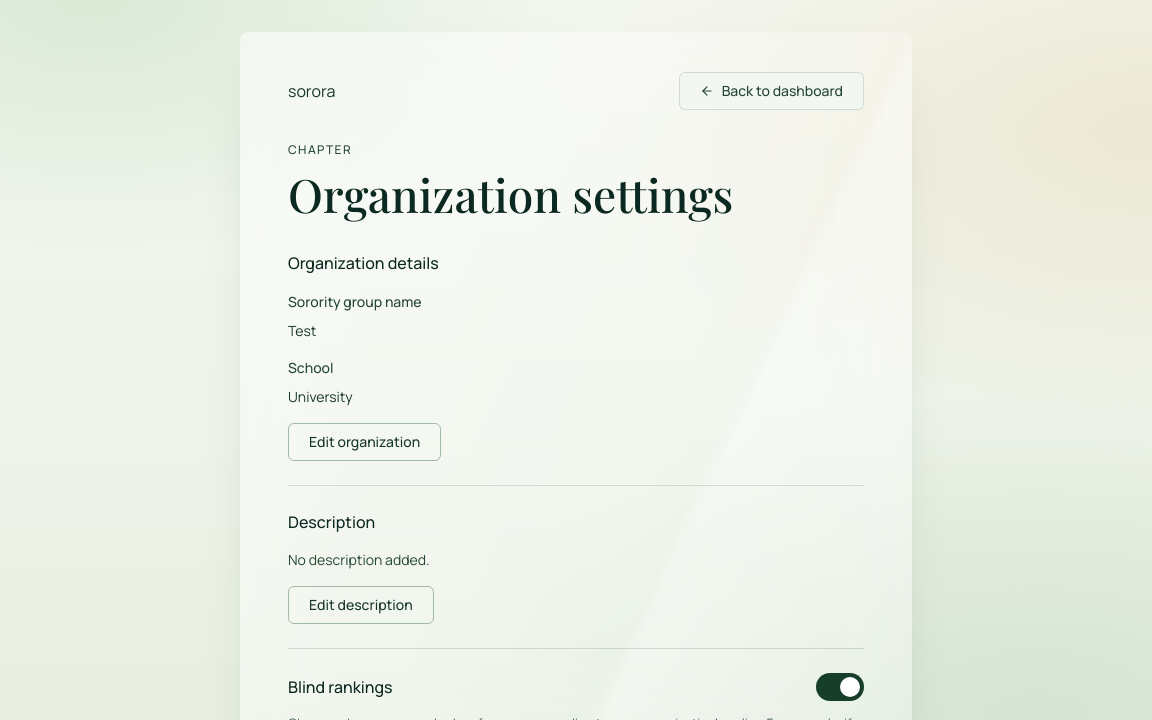
privacy toggle is a draft until Save changes is clicked
Expected: the button "Cancel" is not shown
Click the switch named "Blind rankings".
click(840, 687)  # box [816,673,864,701]
(page scrolled)
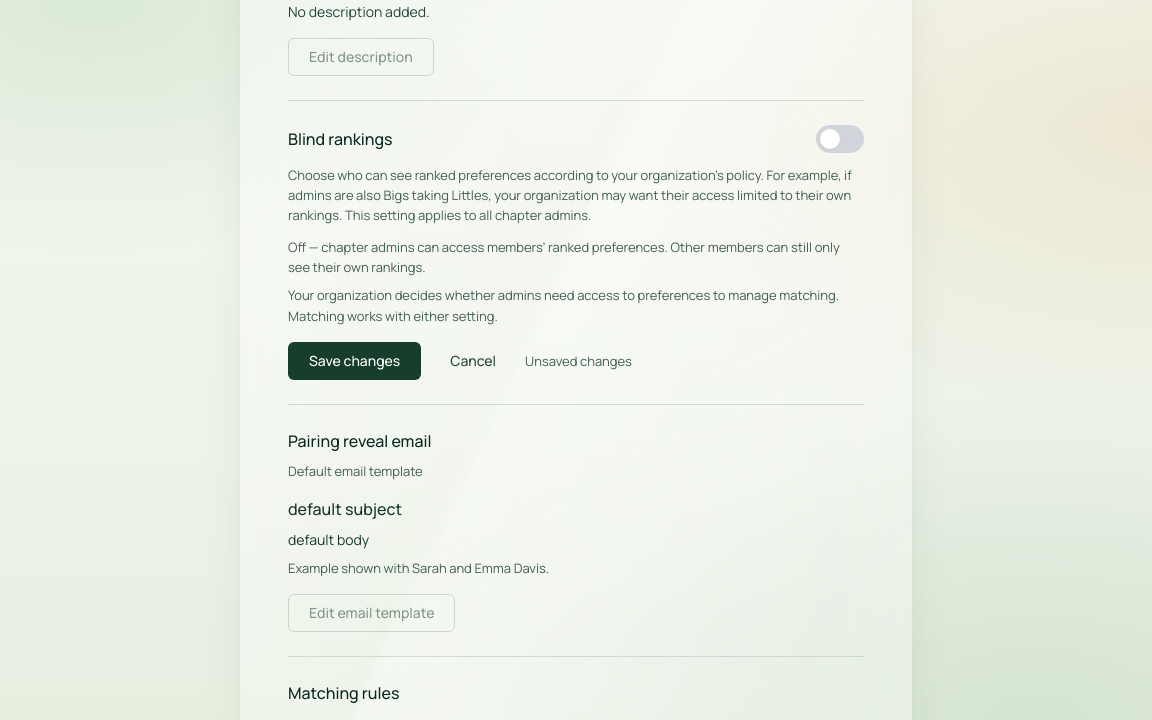
Click the button "Save changes".
click(355, 361)  # box [288,342,421,380]
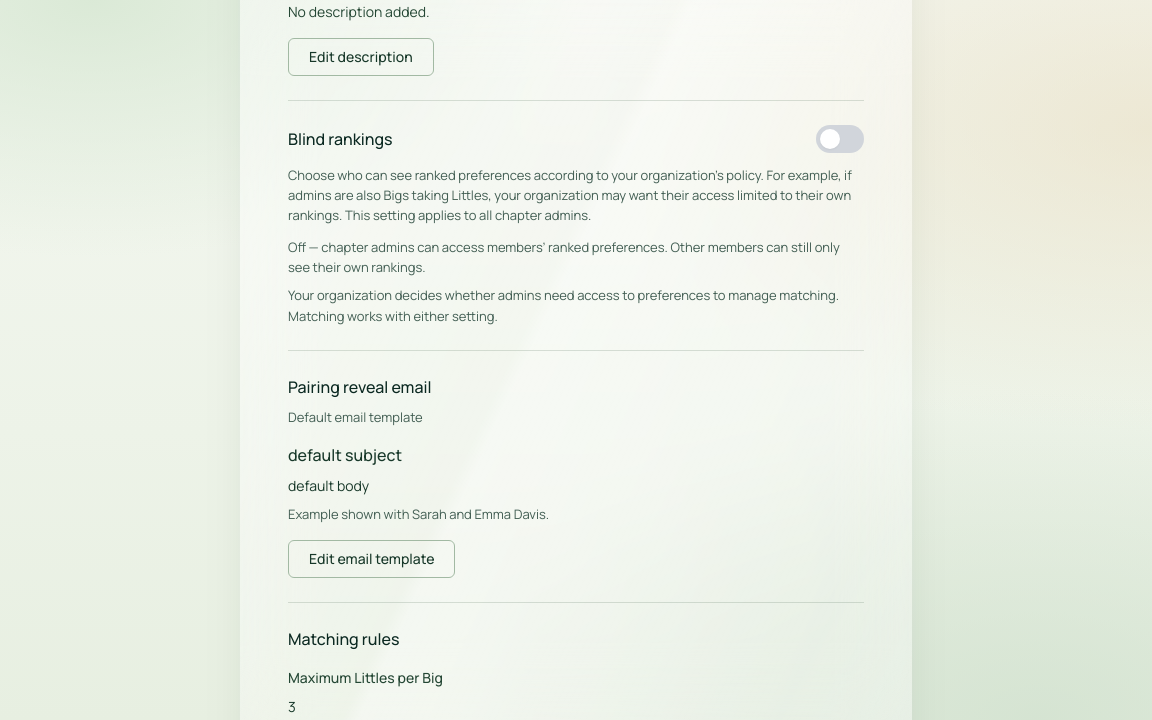
Expected: the button "Save changes" is gone
